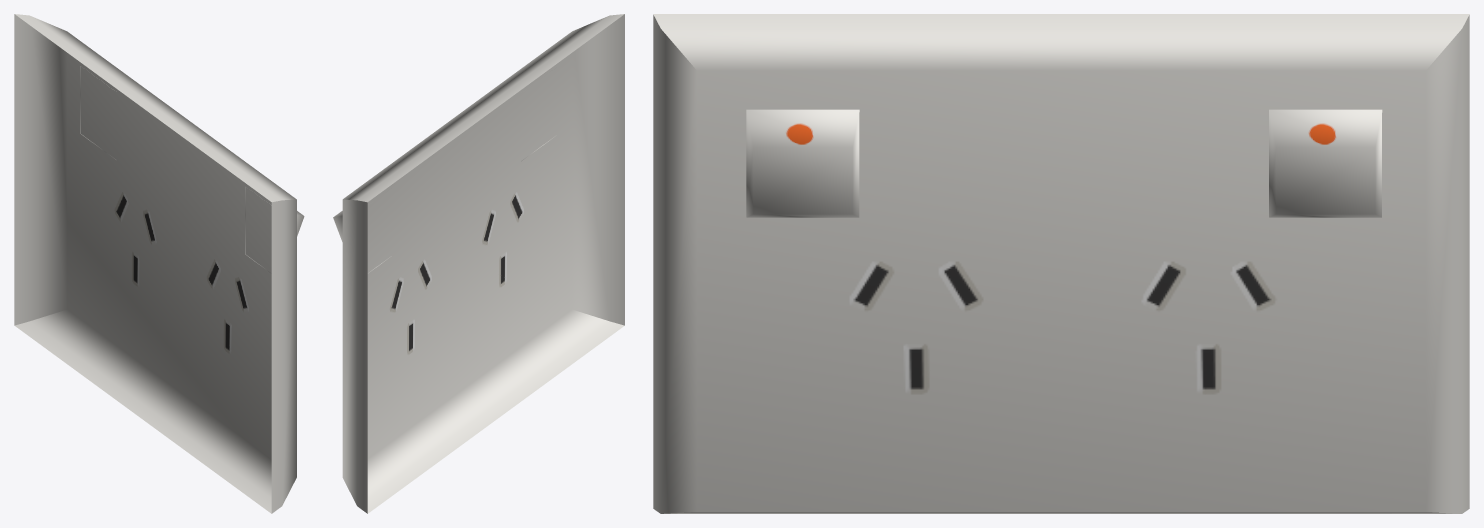
Rendered from powerpoint.fbx.
3 renders of one model, left to right at view 1: azimuth 30°, elevation 25°; view 2: azimuth 150°, elevation 25°; view 3: azimuth 270°, elevation 25°, orthographic. The views are drawn at different scales.
Visible parts, largest first — view 1: powerpoint; view 2: powerpoint; view 3: powerpoint.
Boxes of the visible parts, left/top/right/bottom form: powerpoint: left=14, top=14, right=304, bottom=513; powerpoint: left=333, top=14, right=624, bottom=513; powerpoint: left=653, top=14, right=1469, bottom=513.
Size of the model in its own units: 33.91 by 157 by 235.
